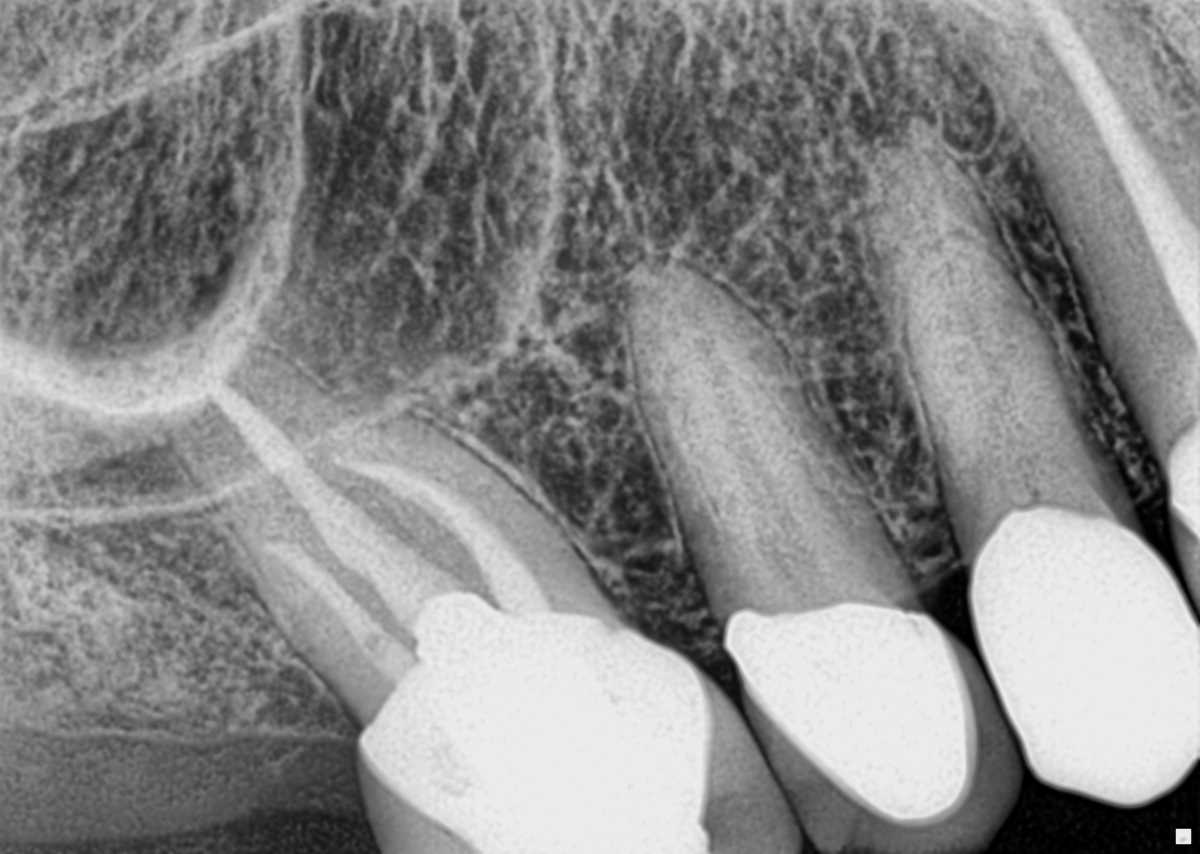Distal Root: (261, 535, 437, 724)
Main Canal: (685, 315, 824, 610)
Main Root: (935, 0, 1200, 458), (623, 257, 897, 636), (871, 139, 1104, 545)
Mesial Root: (318, 412, 616, 623)
Palatal Root: (156, 336, 540, 725)
Root Canal Filling: (204, 377, 470, 632), (1028, 0, 1200, 341), (329, 453, 550, 611), (265, 540, 420, 685)
